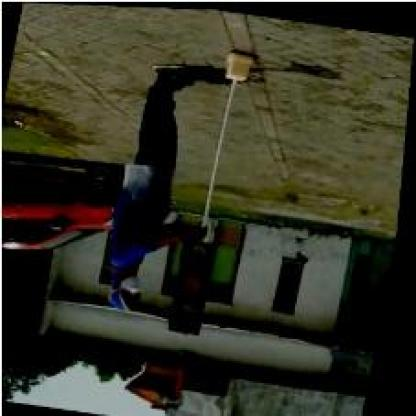yellow: (172, 236, 220, 332)
